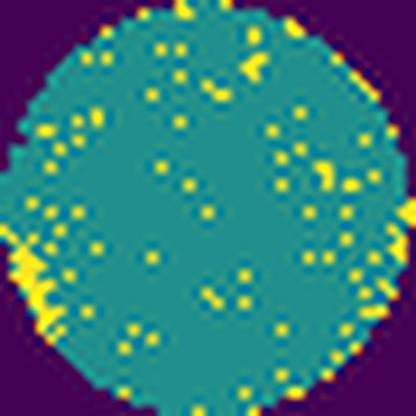Edge-Loc: (0, 226, 75, 348)
